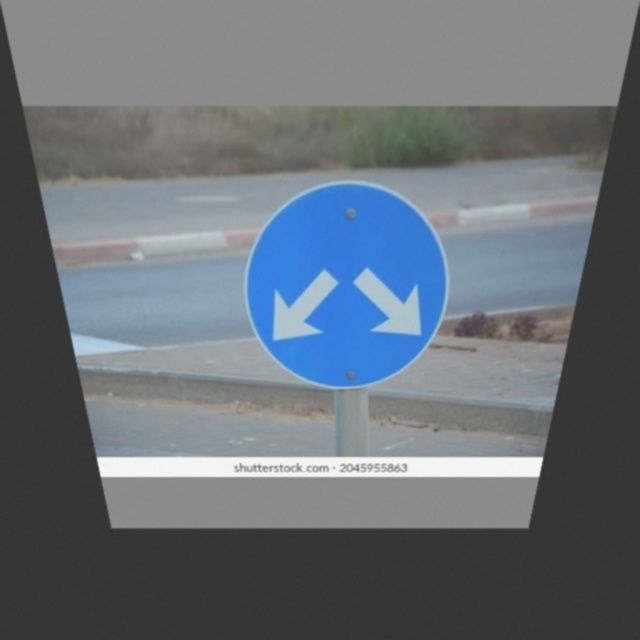Pass_Either_Side: (239, 182, 466, 394)
